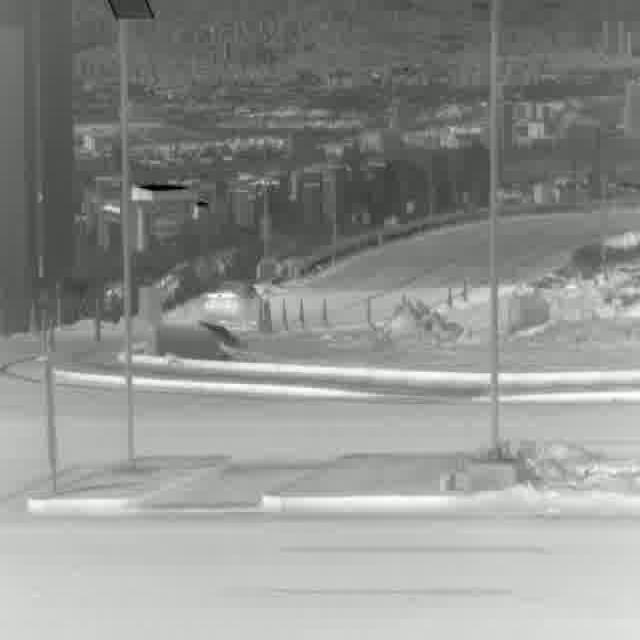Car: (203, 280, 270, 331)
